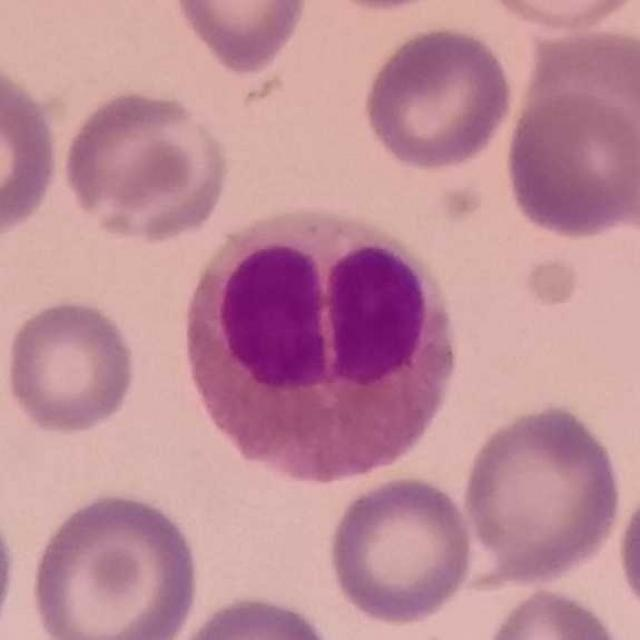Eosinophil: (176, 205, 464, 482)
Platelets: (434, 176, 489, 222)
RBC: (458, 399, 626, 586), (57, 84, 235, 245), (23, 486, 205, 640), (358, 22, 518, 175), (323, 472, 477, 628), (500, 88, 640, 241), (1, 294, 141, 439), (0, 55, 63, 243), (168, 0, 314, 77), (164, 589, 340, 640), (481, 583, 629, 640), (474, 0, 640, 35), (613, 476, 640, 631), (308, 0, 467, 16)
